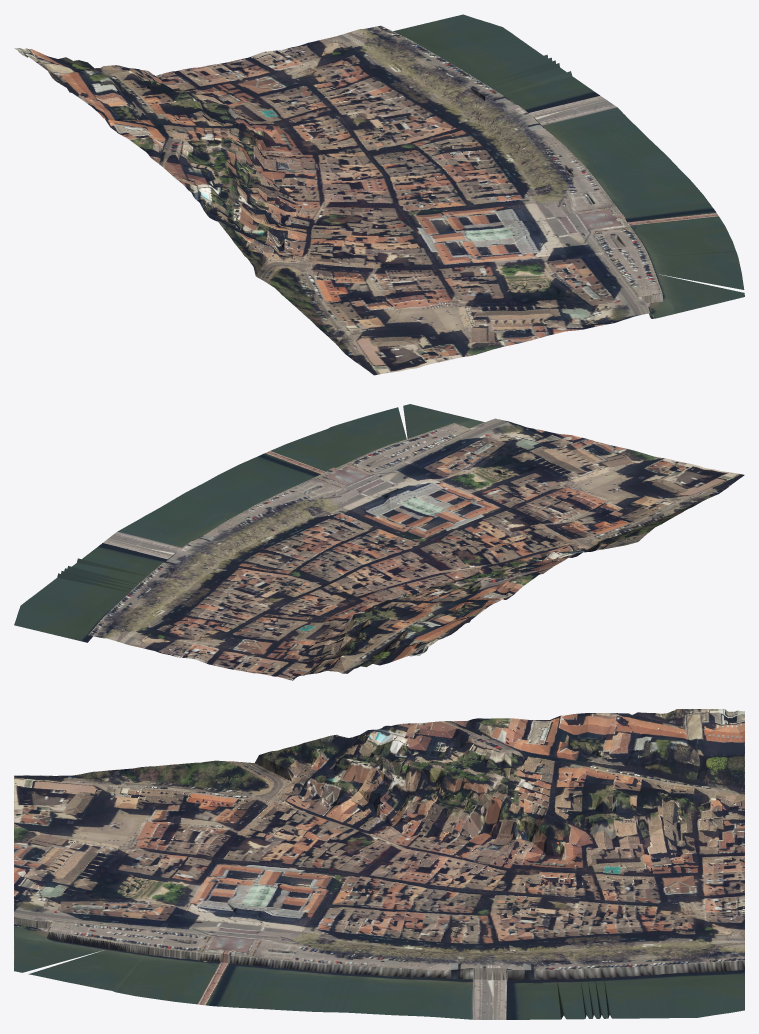
Rendered from gml_4811c913-de34-43c1-ae8a-51304bcd7a24.gltf.
3 renders of one model, top to bottom at view 1: azimuth 30°, elevation 25°; view 2: azimuth 150°, elevation 25°; view 3: azimuth 270°, elevation 25°, orthographic. The views are drawn at different scales.
Visible parts, largest first — view 1: Z_UP; view 2: Z_UP; view 3: Z_UP.
Boxes of the visible parts, x1,y1,x2,y2 form: Z_UP: (14,14,744,375); Z_UP: (14,404,744,680); Z_UP: (14,709,744,1019).
Size of the model in its own units: 376 by 60.46 by 500.
Materials: 1 (1 with a texture image).
